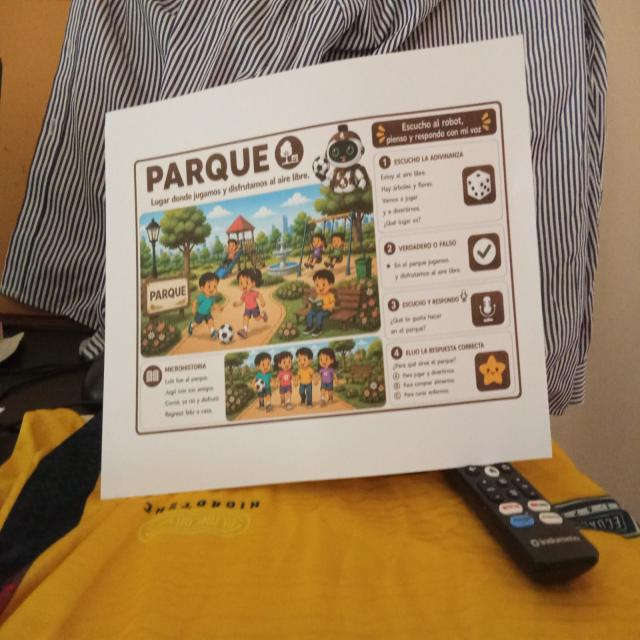parque: (131, 96, 526, 441)
